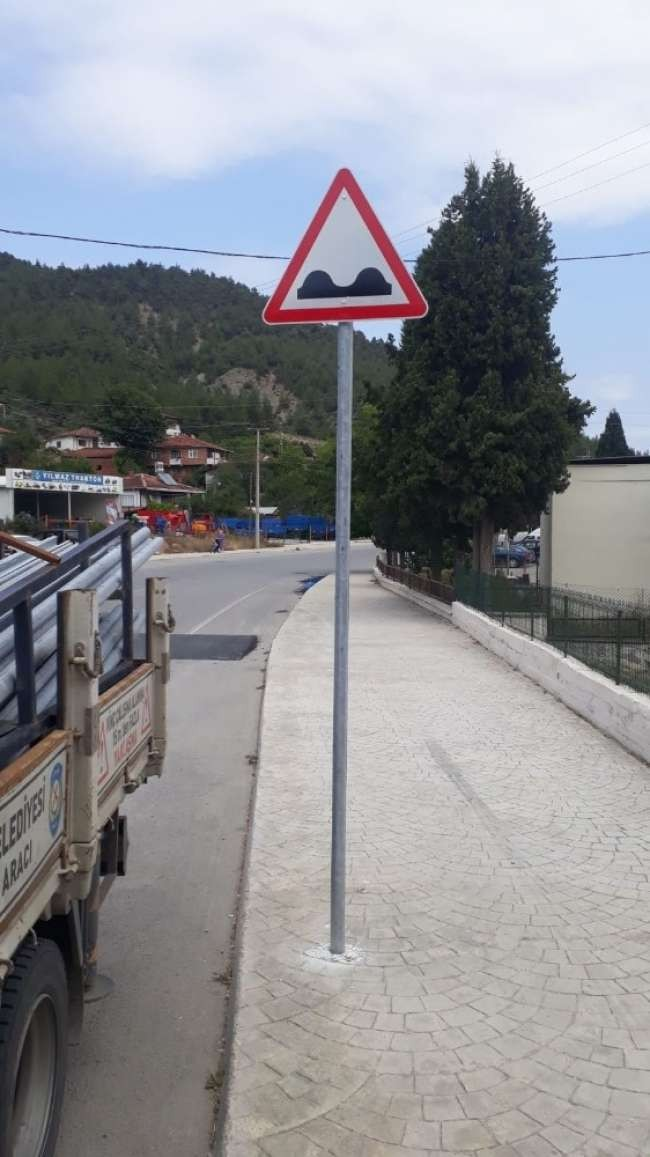Kasisli Yol: (264, 163, 450, 325)
